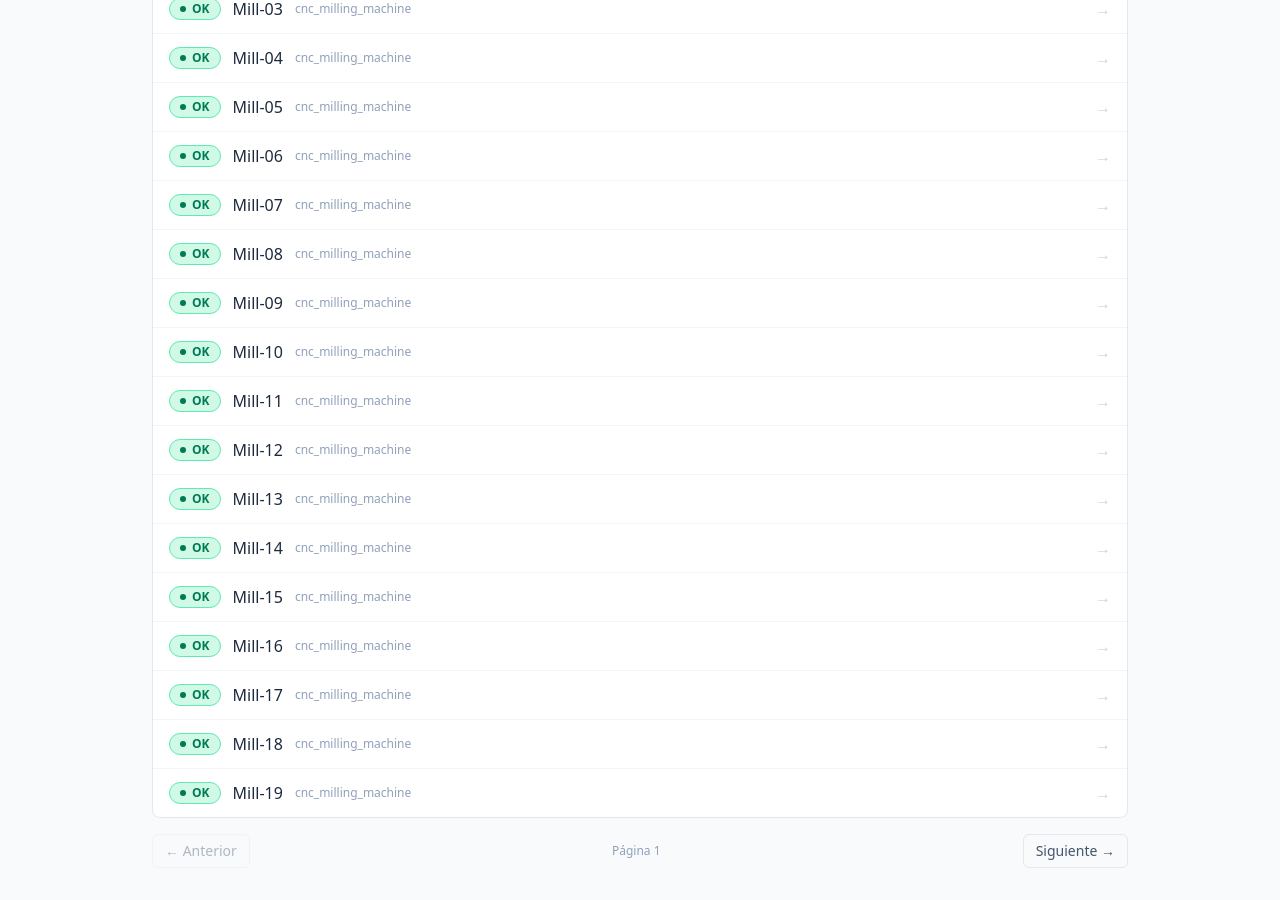
Scenario: AssetListPage › muestra 'Siguiente' habilitado cuando hay más de PAGE_SIZE activos y avanza de página
(page scrolled)
Click the button "Siguiente →" at coordinates (1075, 851), box 1023,834 -> 1128,868
(page scrolled)
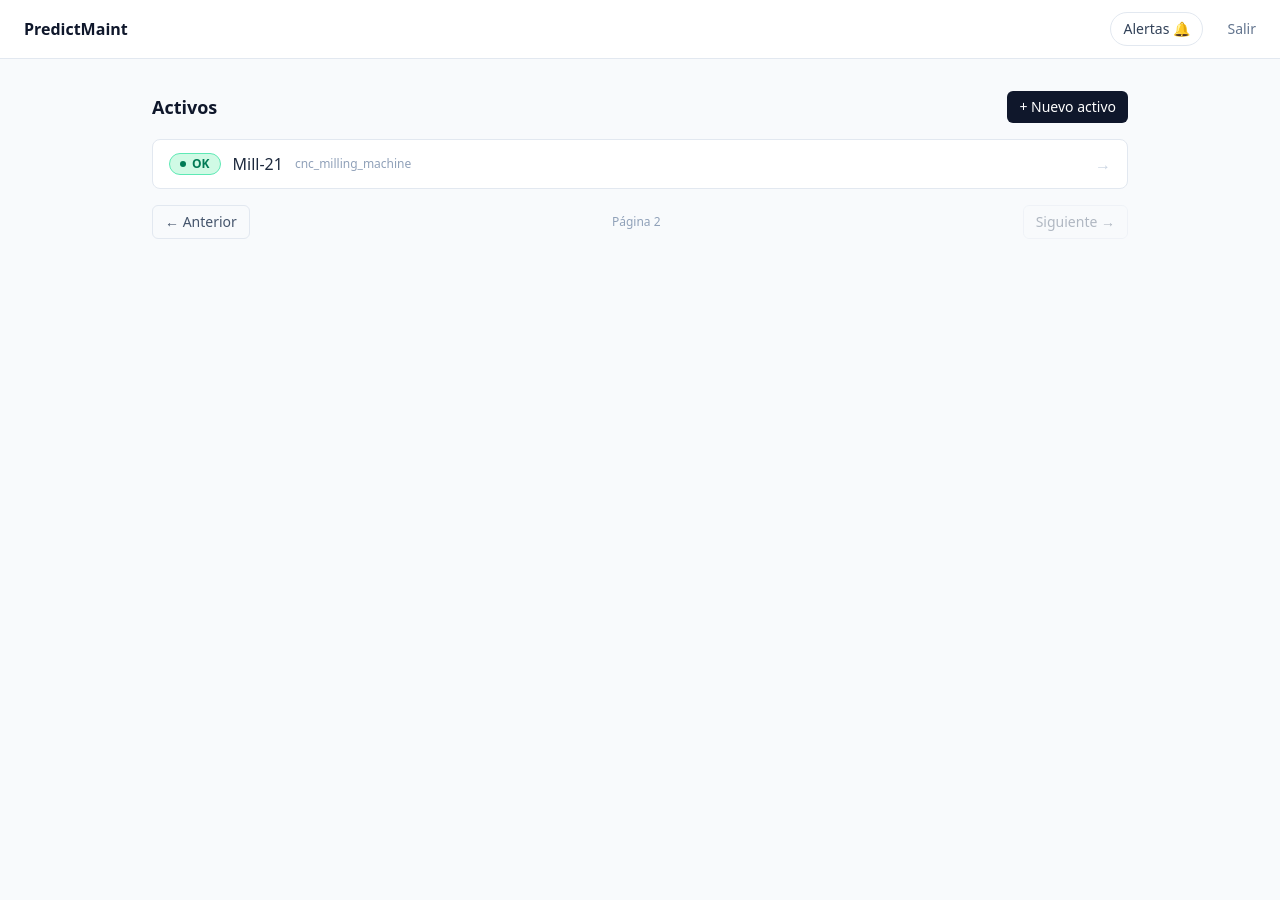
Check: the text "Mill-21" is shown, box 232,152 -> 283,176
Check: the text "Página 2" is shown, box 612,214 -> 661,230
Check: the button "Siguiente →" is disabled, box 1023,205 -> 1128,239
Click the button "← Anterior" at coordinates (201, 222), box 152,205 -> 250,239
(page scrolled)
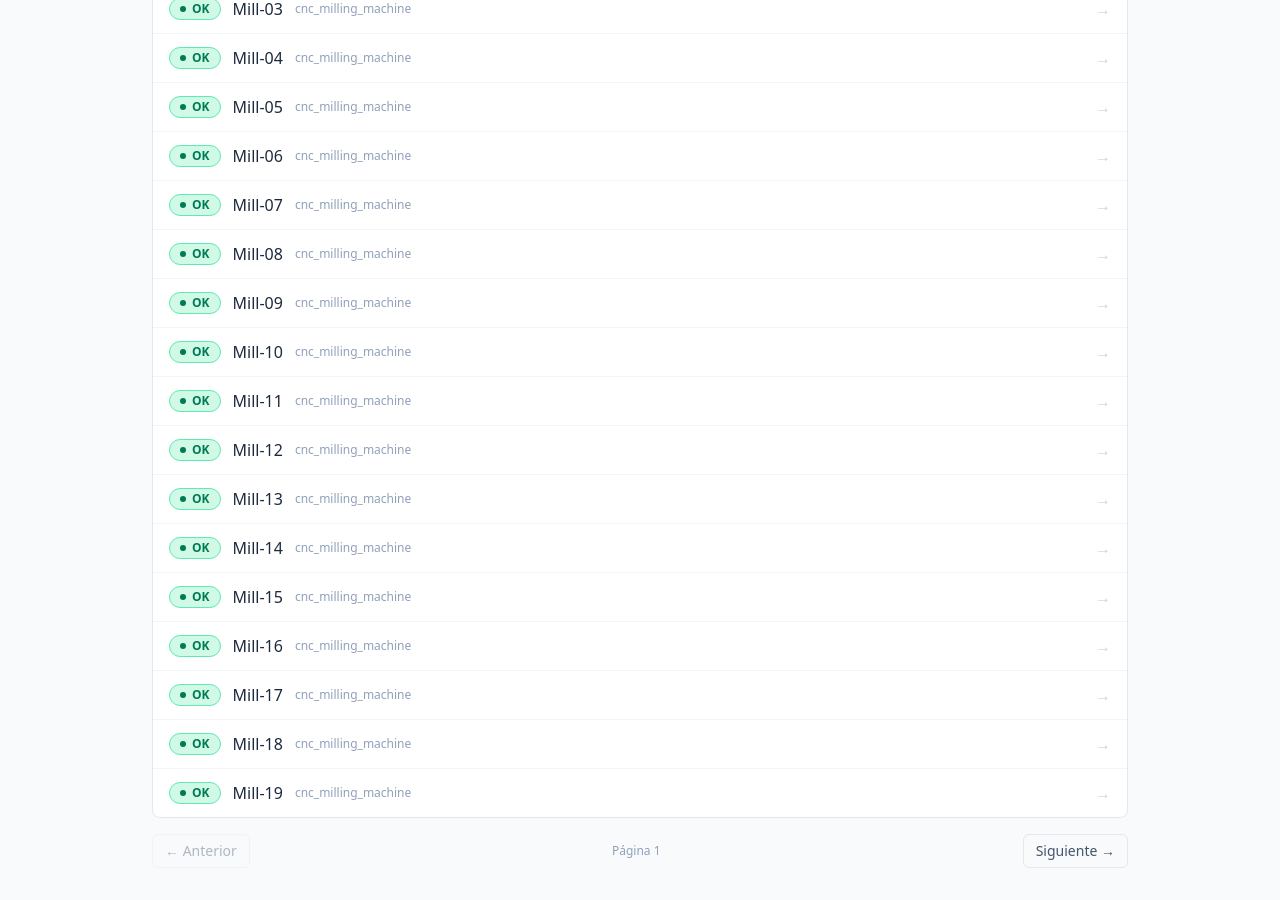
Check: the text "Página 1" is shown, box 612,843 -> 661,859
